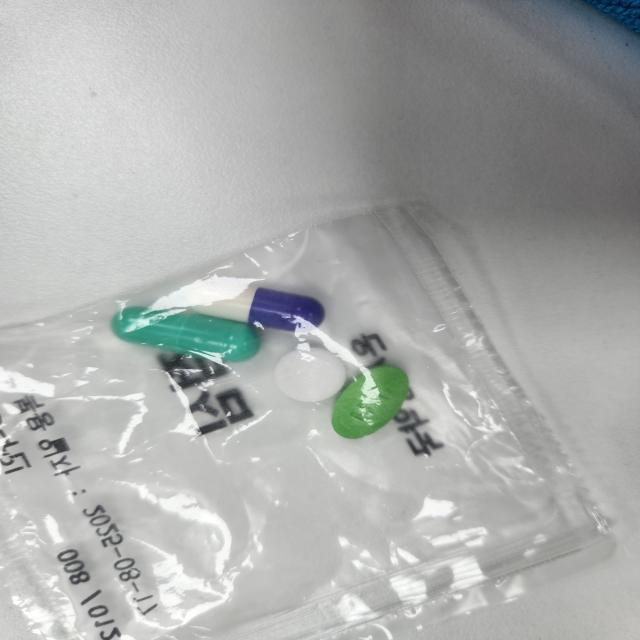러키펜정: (273, 340, 351, 405)
씨엠지세파클러캡슐: (185, 282, 331, 332)
에르도캡슐: (111, 307, 261, 366)
휴티렌정: (333, 362, 411, 440)
